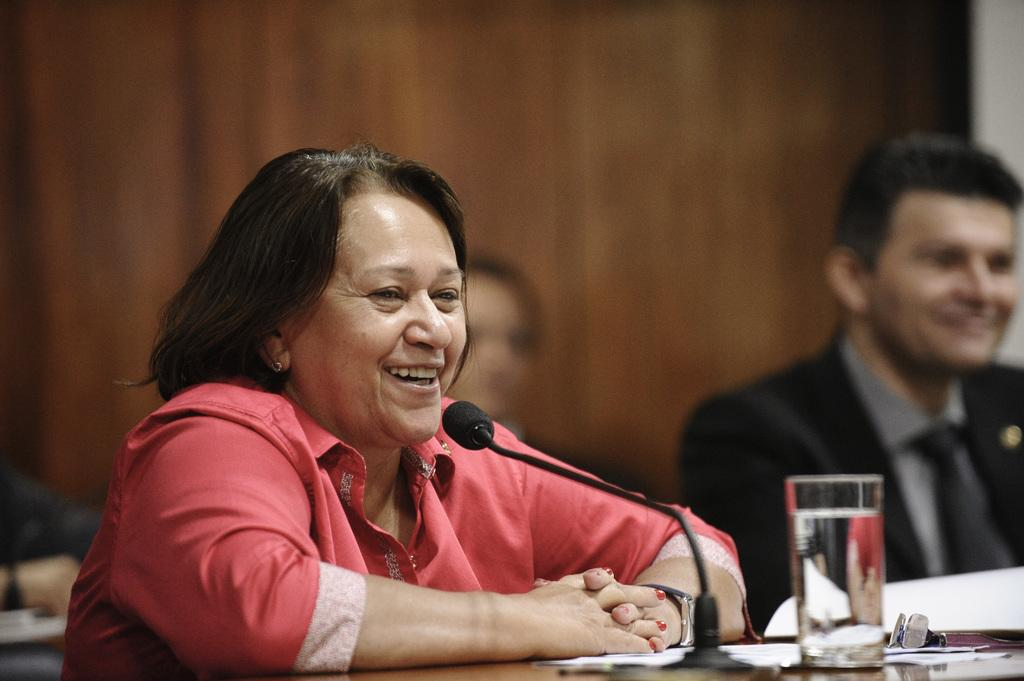Sem Máscara: (290, 188, 463, 445), (861, 187, 1012, 375), (447, 273, 531, 413)
